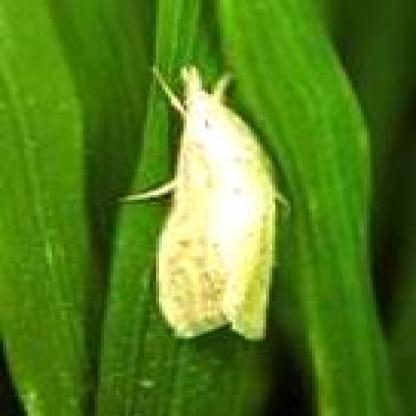stem-borer: (114, 63, 292, 344)
